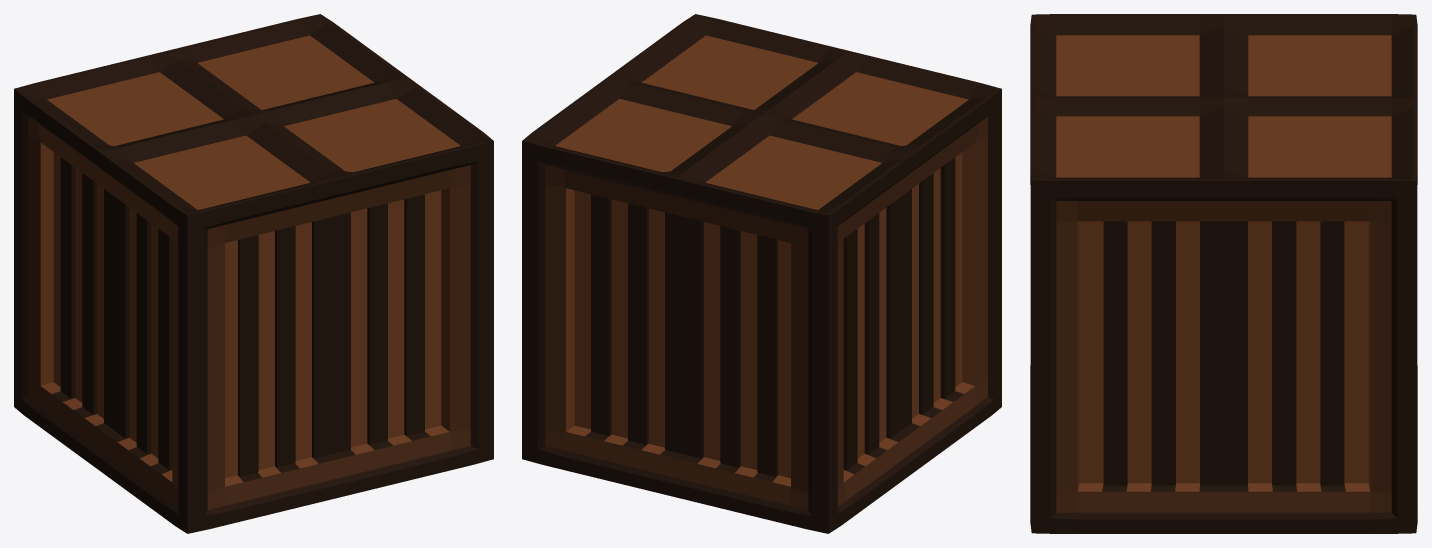
Rendered from CrateBox.fbx.
3 views of the same model, side by side, from view 1: azimuth 30°, elevation 25°; view 2: azimuth 150°, elevation 25°; view 3: azimuth 270°, elevation 25° (orthographic). The views are drawn at different scales.
Visible parts, largest first — view 1: Cube; view 2: Cube; view 3: Cube.
Part boxes in pixels (x1,y1,x2,y2): Cube: (14, 14, 493, 533); Cube: (522, 14, 1001, 533); Cube: (1030, 14, 1417, 533).
Bounding box in the file's own units: 203 × 200 × 199.
